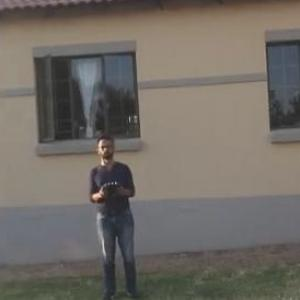follow: (84, 129, 142, 299)
